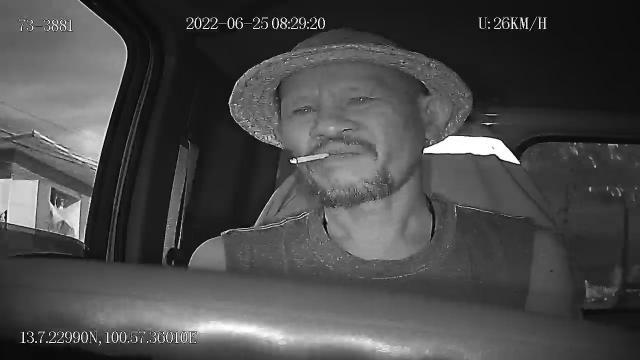SafeDriving: (342, 86, 382, 110)
Smoking: (290, 152, 330, 166)
